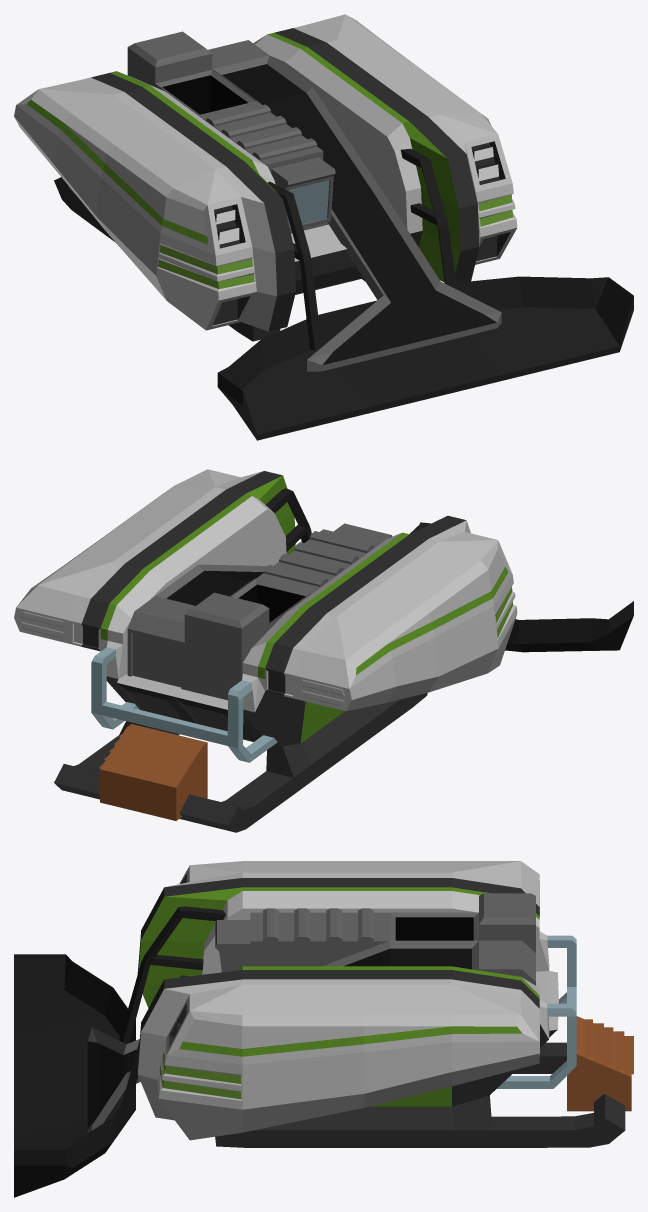
Rendered from harvester.glb.
3 renders of one model, top to bottom at view 1: azimuth 30°, elevation 25°; view 2: azimuth 150°, elevation 25°; view 3: azimuth 270°, elevation 25°, orthographic. The views are drawn at different scales.
Parts seen in each view (by area): view 1: Harvester, Conveyor, Loader; view 2: Harvester, Conveyor, Loader; view 3: Harvester, Loader, Conveyor.
Boxes of the visible parts, bbox=[...] form: Harvester: bbox=[14, 14, 517, 341]; Conveyor: bbox=[127, 31, 501, 371]; Loader: bbox=[217, 148, 633, 440]; Harvester: bbox=[14, 469, 517, 832]; Conveyor: bbox=[127, 523, 392, 700]; Loader: bbox=[265, 488, 633, 652]; Harvester: bbox=[137, 861, 633, 1147]; Loader: bbox=[14, 906, 225, 1197]; Conveyor: bbox=[87, 893, 535, 1132].
Bounding box in the file's own units: 4.06 × 1.81 × 5.43.
Materials: 1 (1 with a texture image).
